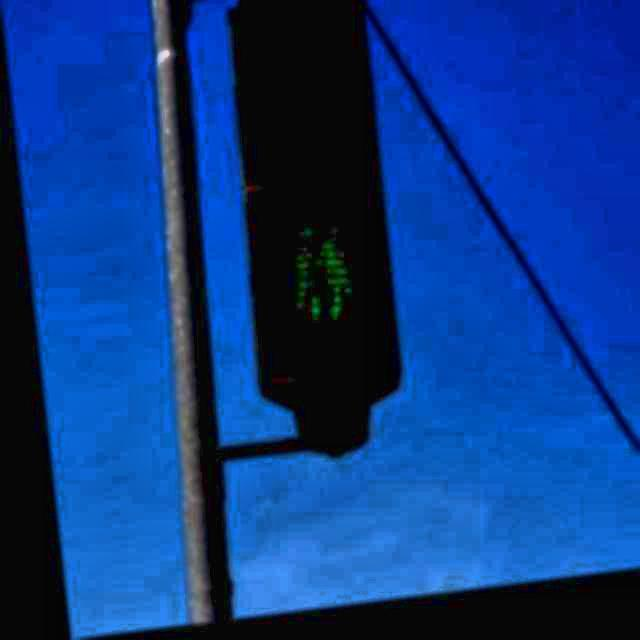semaforo pedestre: (138, 0, 462, 503)
